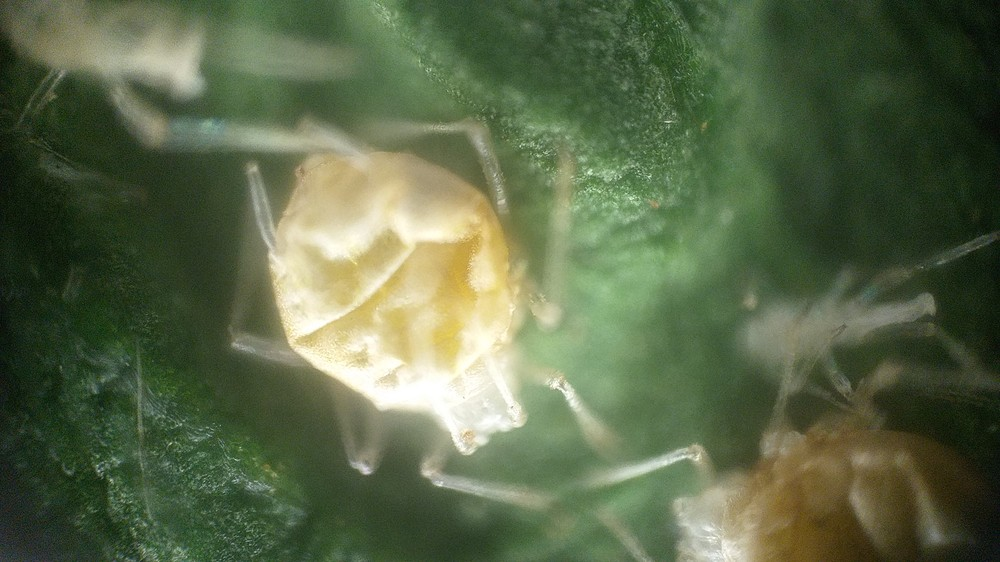Pulgon: (213, 97, 647, 493), (652, 364, 997, 562)
